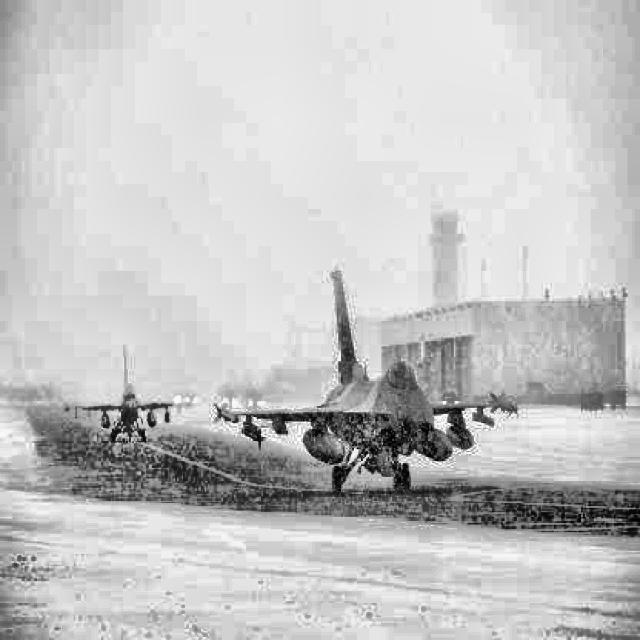F16: (213, 267, 518, 495), (63, 346, 191, 442)
